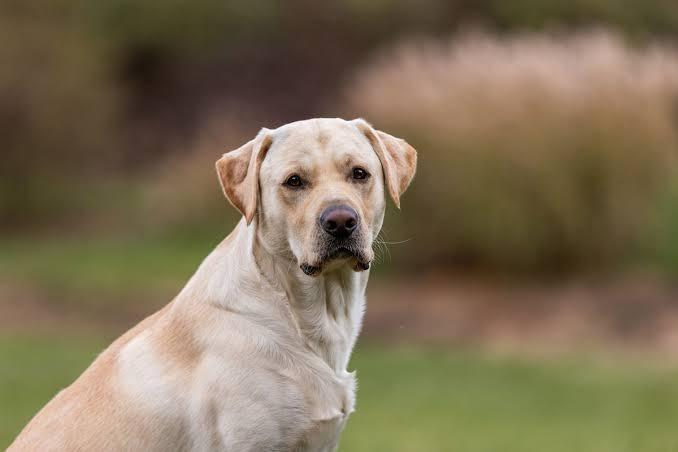adult_dog: (5, 116, 419, 452)
